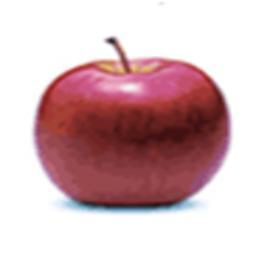apple: (34, 50, 232, 205)
